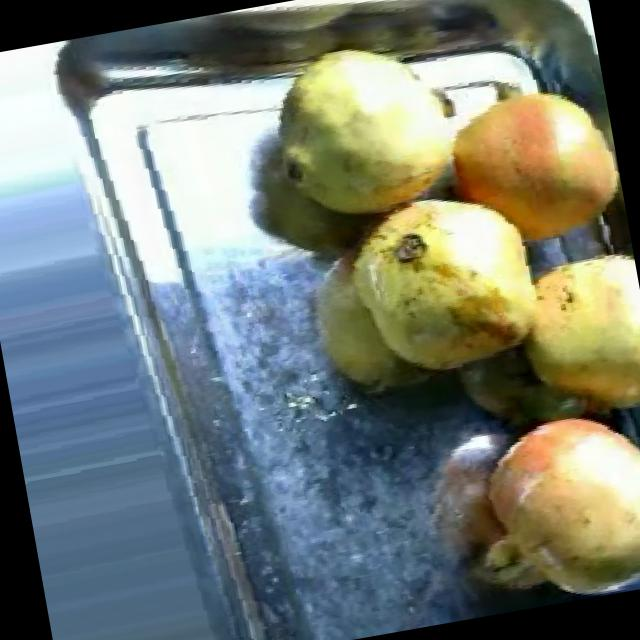fruit: (314, 159, 580, 406), (242, 13, 489, 245), (410, 52, 632, 282), (449, 386, 640, 616), (492, 213, 640, 449)
